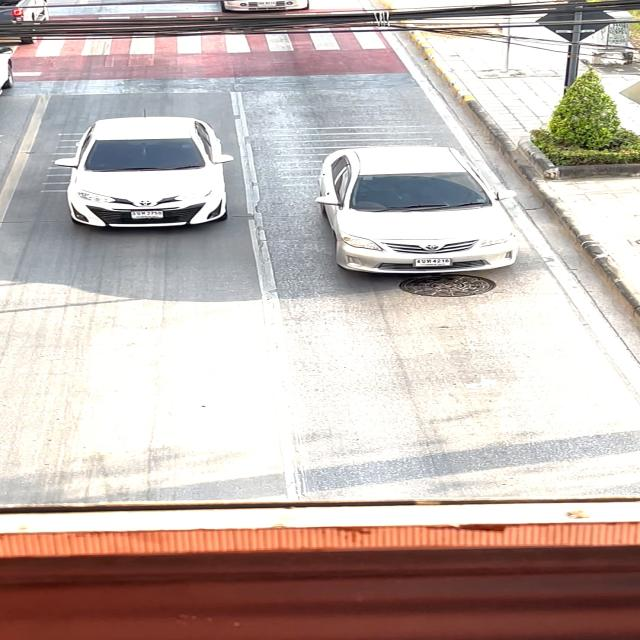car: (290, 144, 542, 277), (54, 117, 250, 235)
